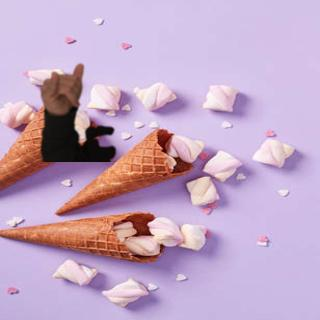HAVE: (31, 56, 88, 115)
